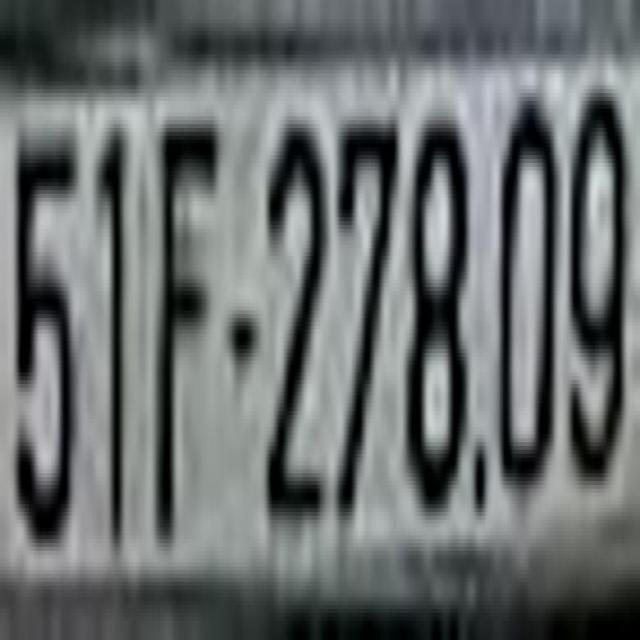0: (496, 90, 556, 484)
1: (95, 124, 127, 539)
2: (263, 128, 325, 508)
5: (16, 116, 78, 547)
7: (334, 120, 400, 528)
8: (404, 104, 467, 520)
9: (566, 78, 632, 492)
F: (147, 96, 225, 566)
